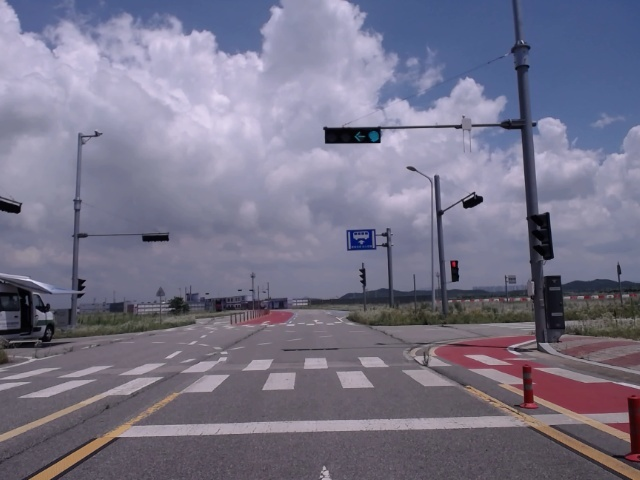all_green_4: (326, 125, 382, 144)
